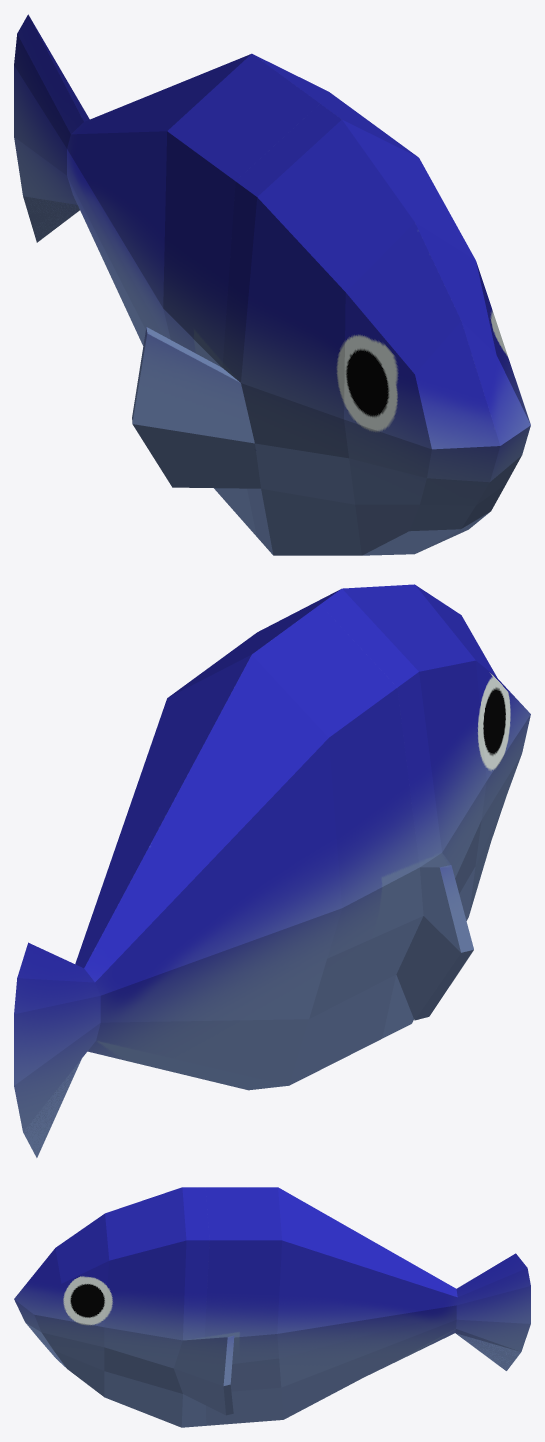
Rendered from fibsh.fbx.
3 views of the same model, one above another, from view 1: azimuth 30°, elevation 25°; view 2: azimuth 150°, elevation 25°; view 3: azimuth 270°, elevation 25° (orthographic). The views are drawn at different scales.
Visible parts, largest first — view 1: Cube; view 2: Cube; view 3: Cube.
Part boxes in pixels (x1,y1,x2,y2): Cube: (14,14,530,555); Cube: (14,584,530,1157); Cube: (14,1187,530,1427).
Bounding box in the file's own units: 47.32 × 57.47 × 117.
Materials: 1 (1 with a texture image).
